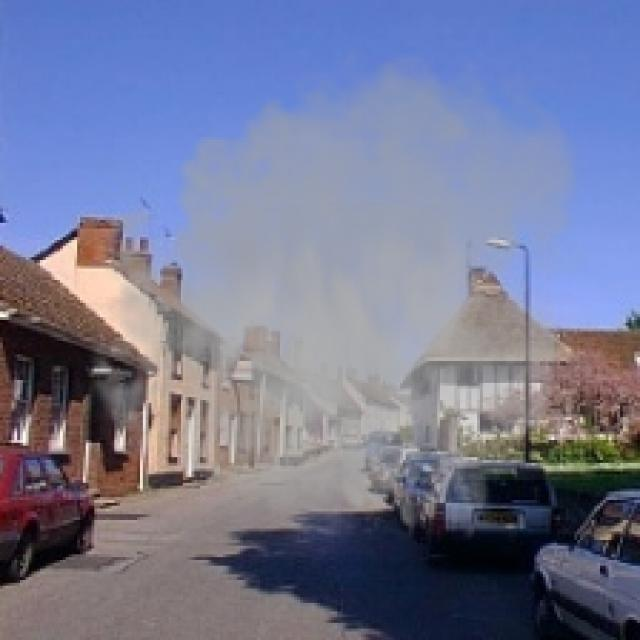Smoke: (74, 37, 592, 574)
